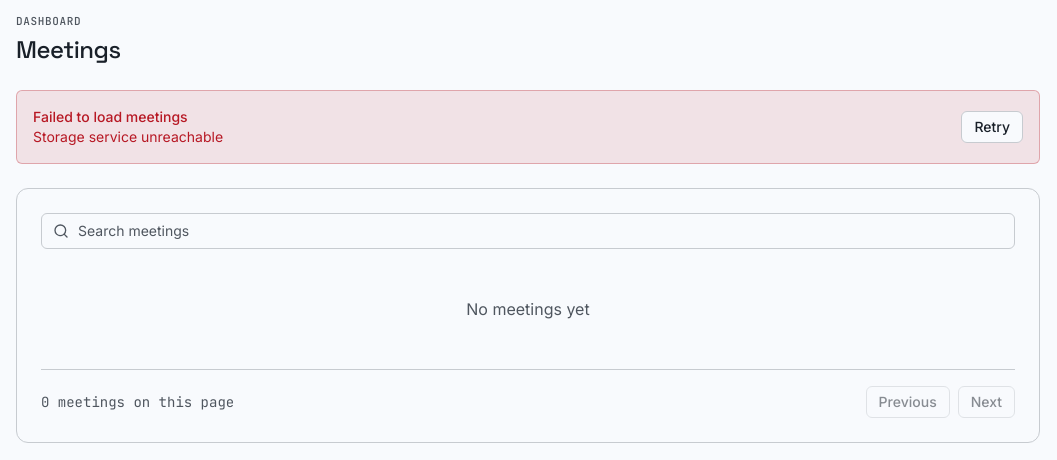
Test: Meetings dashboard › refetches from the error banner retry button
Expected: the text "Storage service unreachable" is shown, [33, 126, 223, 146]
Click the button "Retry": (992, 126) [961, 110, 1023, 142]
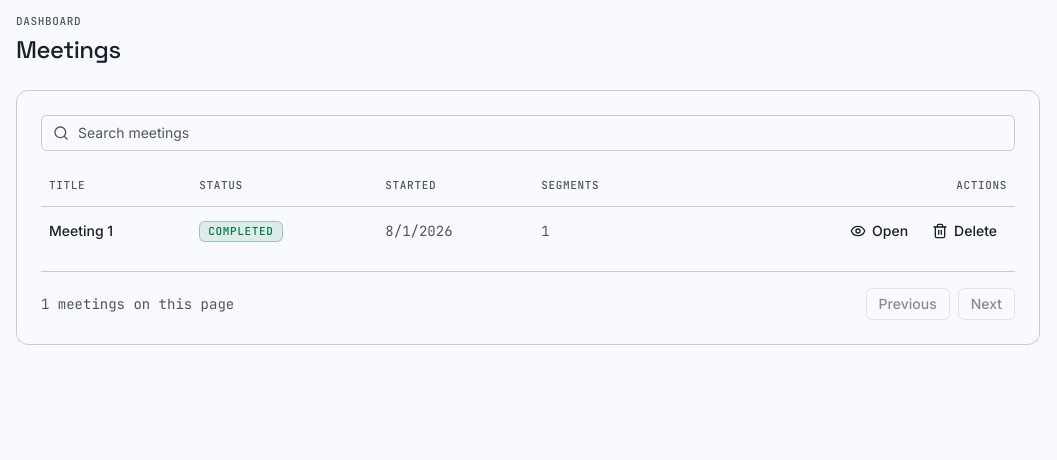
Expected: the text "Meeting 1" is shown, [41, 206, 191, 255]
